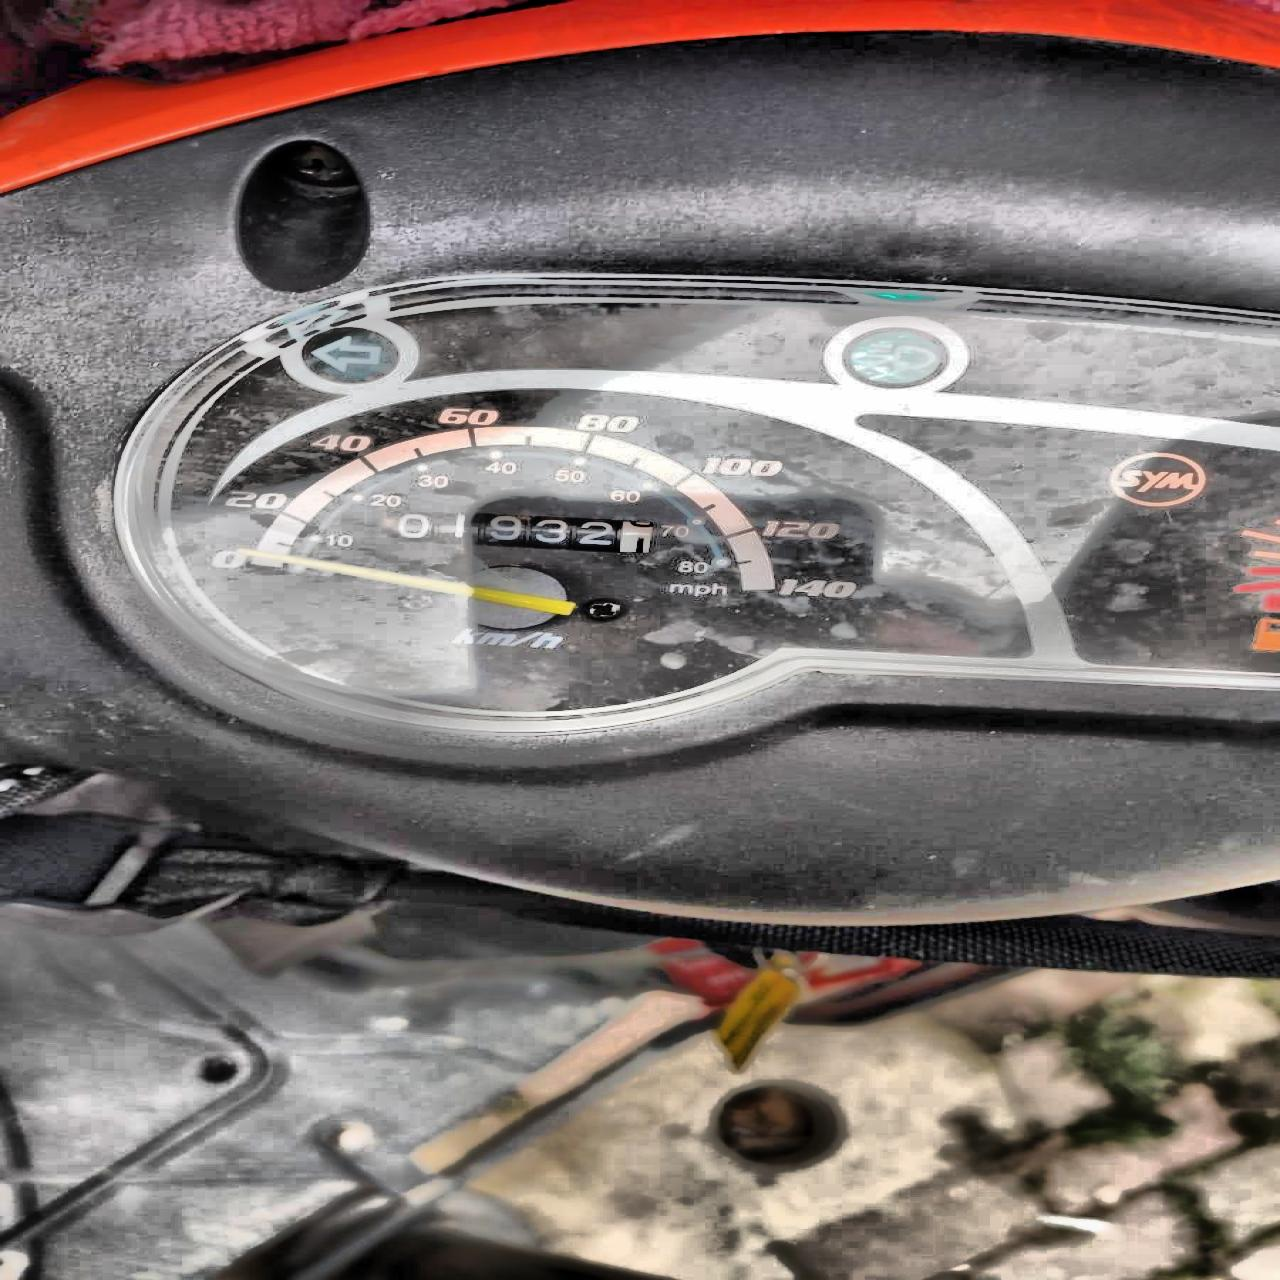0: (392, 510, 433, 544)
1: (445, 510, 472, 549), (622, 530, 652, 556)
2: (576, 518, 613, 545)
3: (531, 518, 567, 545)
9: (484, 513, 523, 543)
odometer: (368, 508, 659, 554)
